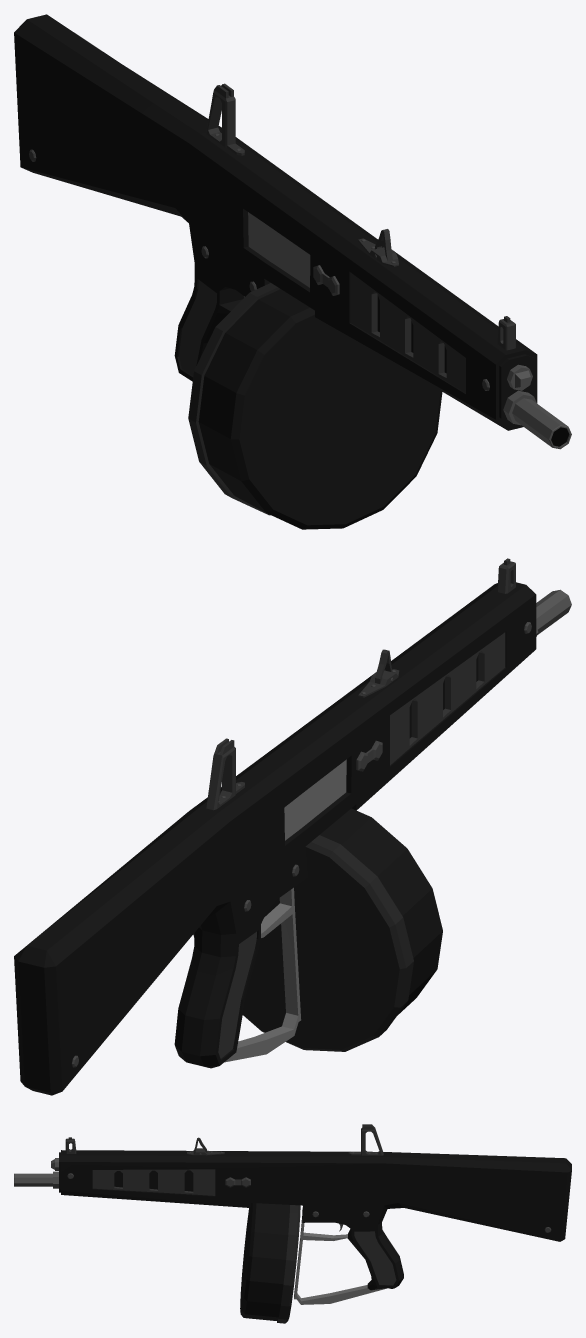
The picture shows the model from 3 angles, top to bottom: view 1: azimuth 30°, elevation 25°; view 2: azimuth 150°, elevation 25°; view 3: azimuth 270°, elevation 25°; orthographic projection. The views are drawn at different scales.
Parts seen in each view (by area): view 1: Body, Magazine; view 2: Body, Magazine; view 3: Body, Magazine.
Part boxes in pixels (x1,y1,x2,y2): Body: (14, 14, 571, 449); Magazine: (188, 283, 442, 529); Body: (14, 558, 571, 1095); Magazine: (193, 808, 442, 1051); Body: (14, 1124, 571, 1304); Magazine: (240, 1203, 300, 1323).
Size of the model in its own units: 19.43 by 31.07 by 81.77.
